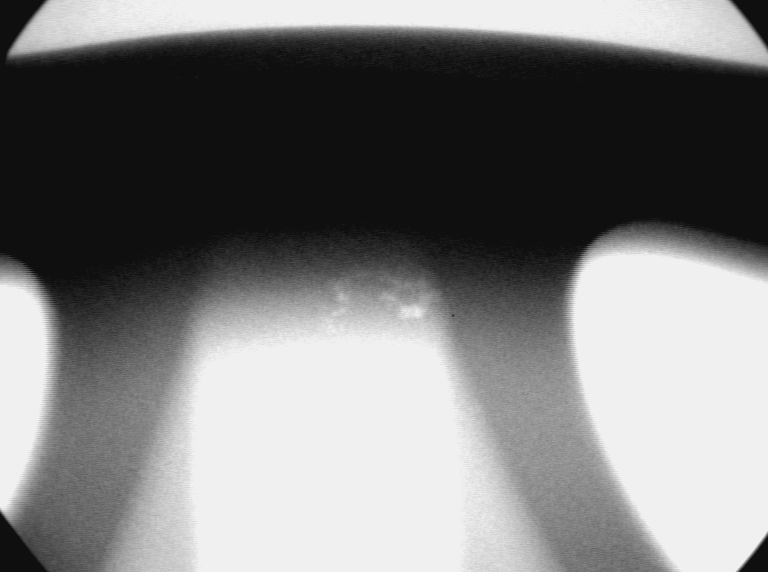defect: (321, 254, 452, 342)
